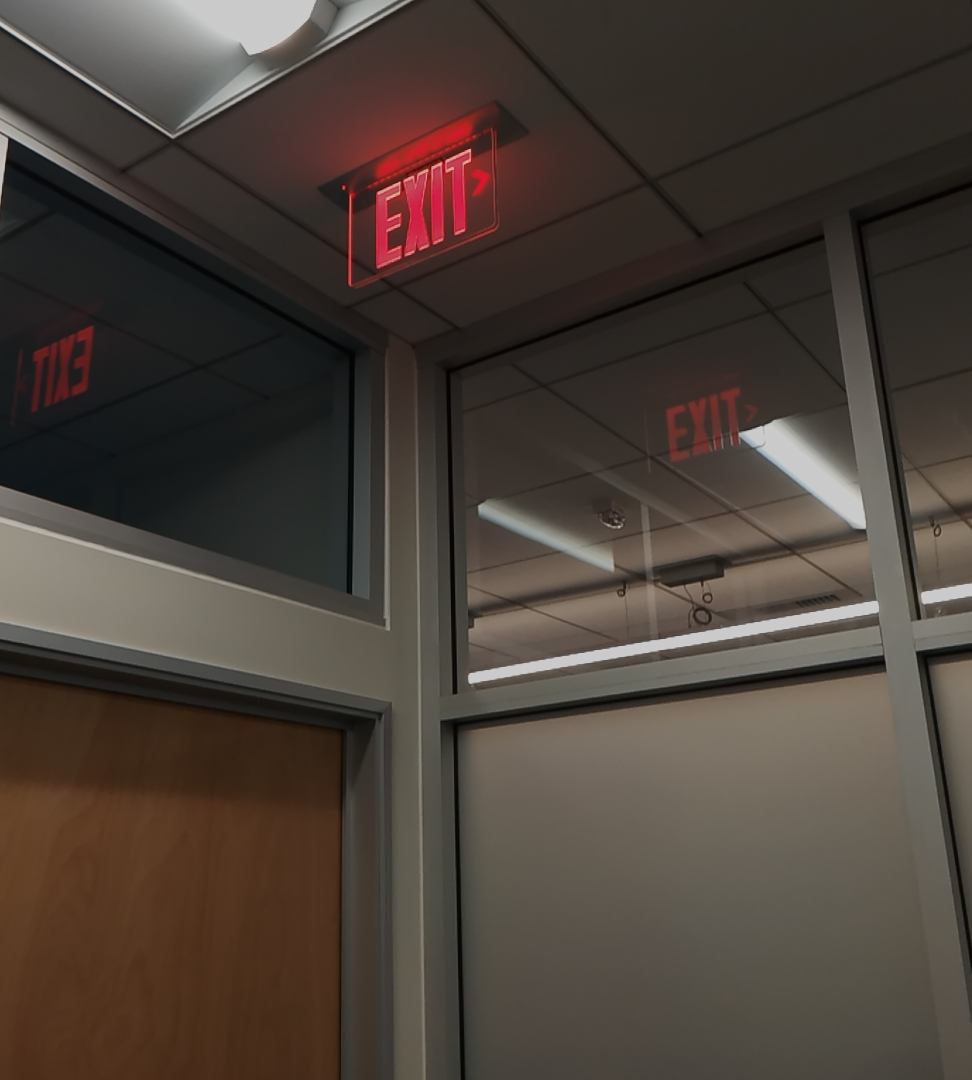emergency_exit: (343, 120, 502, 289), (9, 322, 97, 423), (663, 385, 749, 463)
